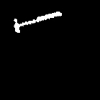half_double_crochet: (14, 12, 61, 32)
